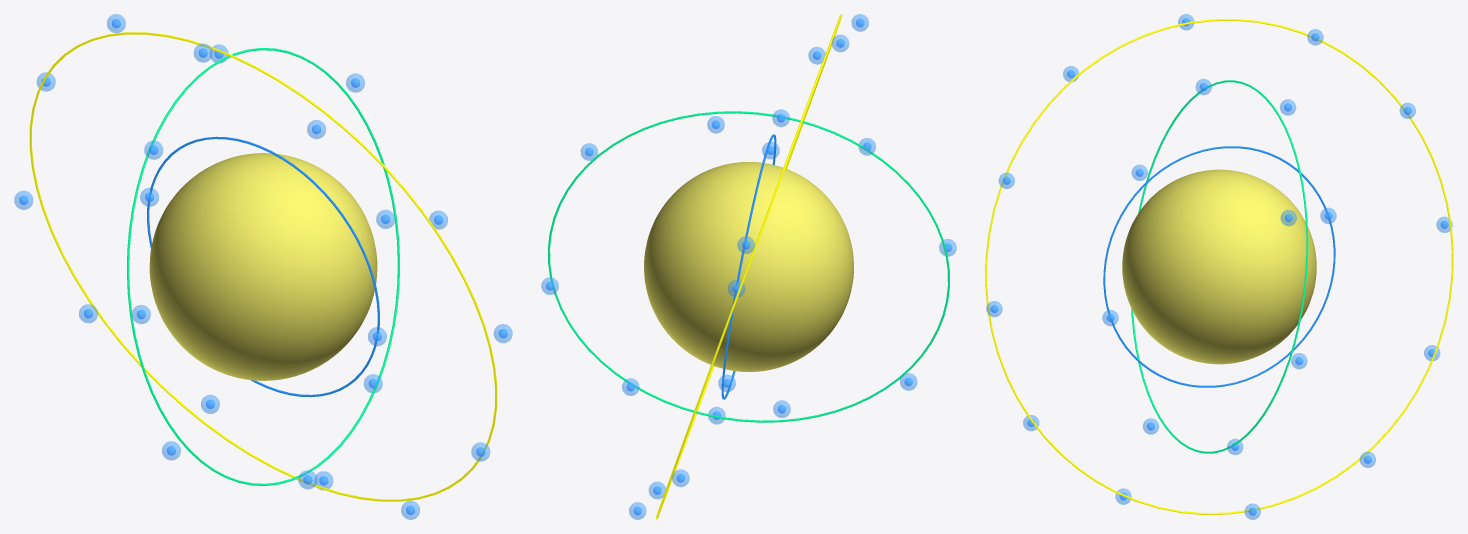
3 views of the same model, side by side, from view 1: azimuth 30°, elevation 25°; view 2: azimuth 150°, elevation 25°; view 3: azimuth 270°, elevation 25° (orthographic). The views are drawn at different scales.
Parts seen in each view (by area): view 1: Ti, object 24, object 7, object 2; view 2: Ti, object 7, object 24, object 2; view 3: Ti, object 24, object 7, object 2.
Boxes of the visible parts, left/top/right/bottom form: Ti: left=149, top=153, right=377, bottom=380; object 24: left=29, top=32, right=497, bottom=501; object 7: left=127, top=48, right=399, bottom=485; object 2: left=147, top=136, right=379, bottom=397; Ti: left=644, top=162, right=853, bottom=371; object 7: left=548, top=111, right=949, bottom=422; object 24: left=655, top=14, right=842, bottom=519; object 2: left=721, top=134, right=776, bottom=399; Ti: left=1122, top=169, right=1316, bottom=364; object 24: left=985, top=19, right=1453, bottom=514; object 7: left=1131, top=80, right=1308, bottom=453; object 2: left=1103, top=146, right=1335, bottom=387.
Size of the model in its own units: 3.38 by 4.67 by 4.53.
